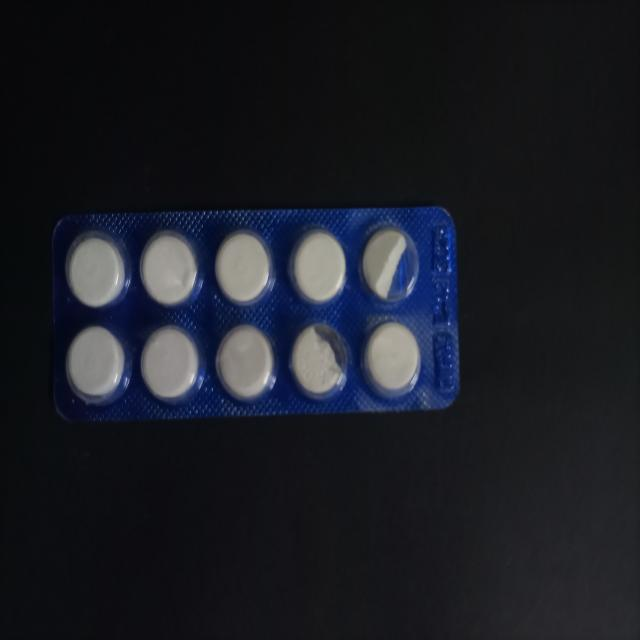defect: (286, 315, 351, 405), (357, 220, 421, 308)
